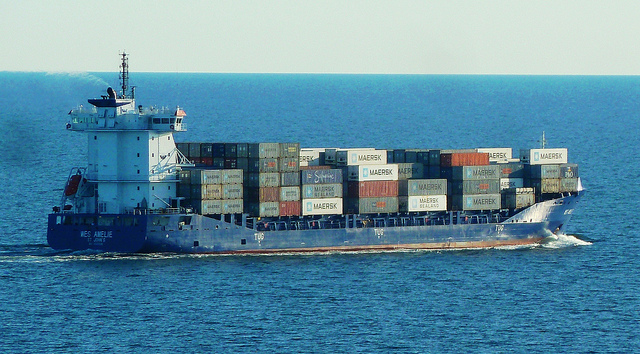container_ship: (47, 54, 588, 252)
